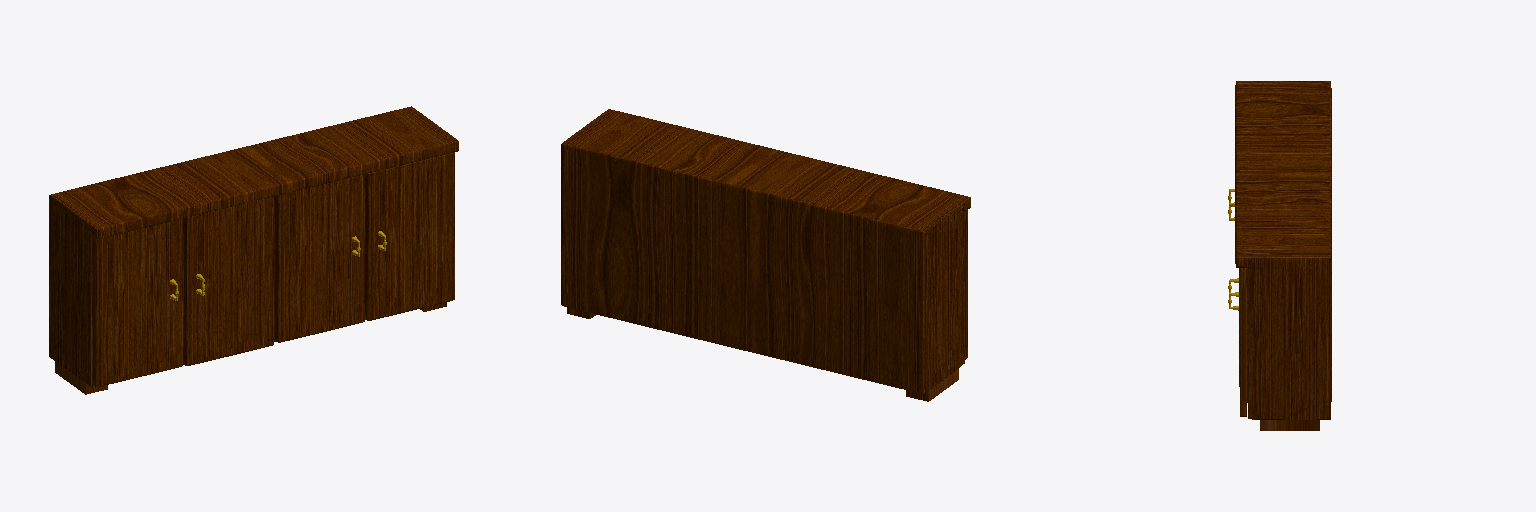
3 renders of one model, left to right at view 1: azimuth 30°, elevation 25°; view 2: azimuth 150°, elevation 25°; view 3: azimuth 270°, elevation 25°, orthographic.
Visible parts, largest first — view 1: Base_Cube, 1_Left_Door_Cube_006, 1_Right_Door_Cube_017, 2_Right_Door_Cube_016, 2_Left_Door_Cube_008; view 2: Base_Cube; view 3: Base_Cube, 2_Right_Door_Cube_016.
Part boxes in pixels (x1,y1,x2,y2): Base_Cube: (49,106,458,394); 1_Left_Door_Cube_006: (93,219,183,386); 1_Right_Door_Cube_017: (183,197,273,365); 2_Right_Door_Cube_016: (365,152,454,320); 2_Left_Door_Cube_008: (275,174,364,342); Base_Cube: (561,109,970,401); Base_Cube: (1235,81,1331,430); 2_Right_Door_Cube_016: (1239,268,1247,416).
Bounding box in the file's own units: 20 × 9.2 × 4.93.
Materials: 2 (1 with a texture image).